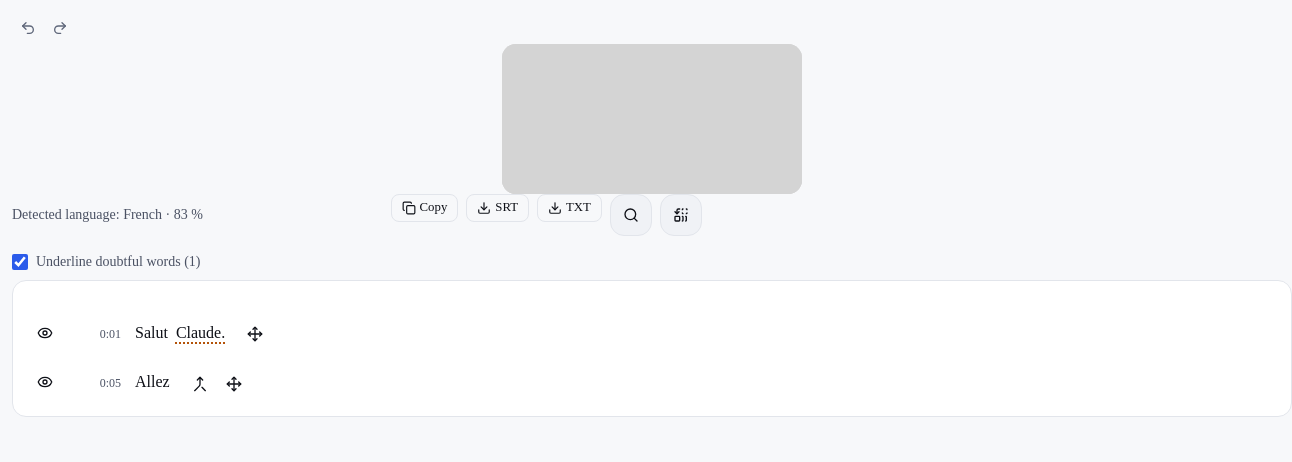
Test case: TranscriptView › shows a clear error with a Try again button when saving fails
The width and height of the screenshot is (1292, 462).
Click the button "Allez": (152, 382) x1=133 y1=366 x2=172 y2=398
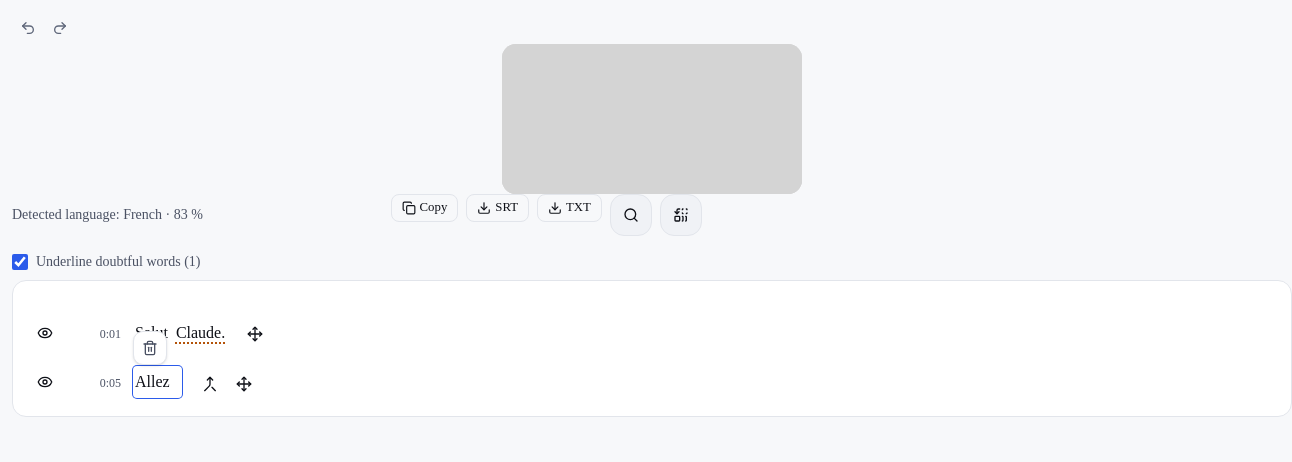
Type keys "Allons{Enter}"
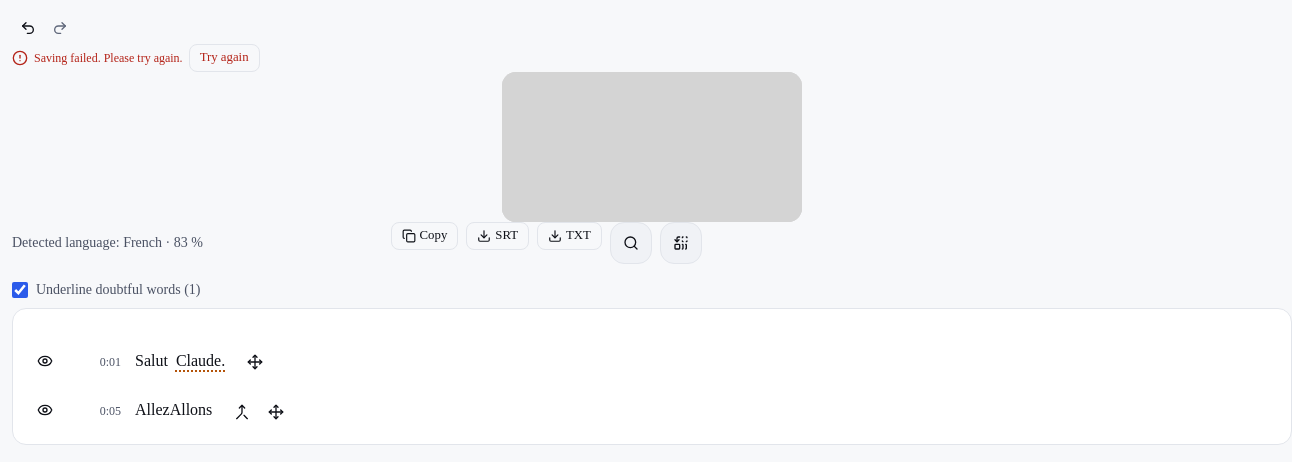
Now the text "Saving failed. Please try again." is shown, box x1=34 y1=50 x2=183 y2=66
Click the button "Try again": (224, 58) x1=189 y1=44 x2=260 y2=72
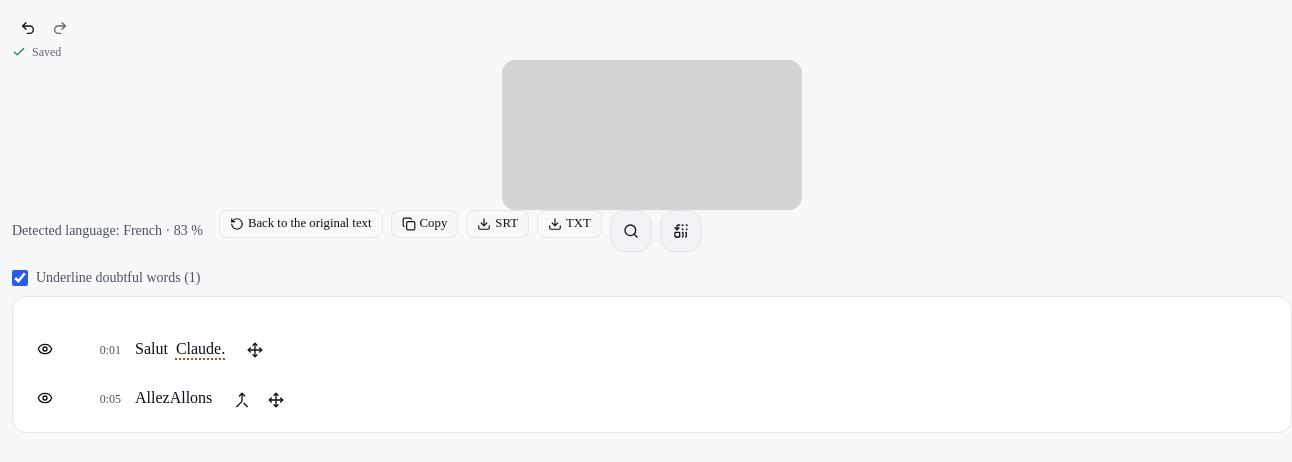
Now the text "Saved" is shown, box x1=32 y1=44 x2=61 y2=60
